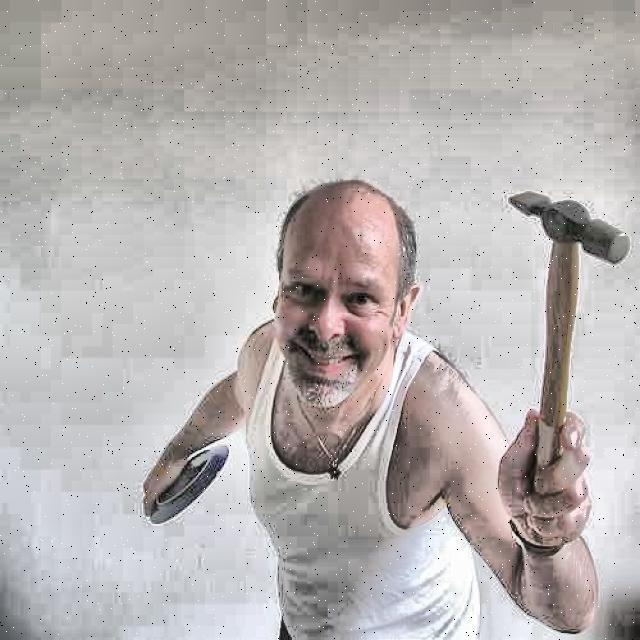hammer: (509, 189, 629, 540)
